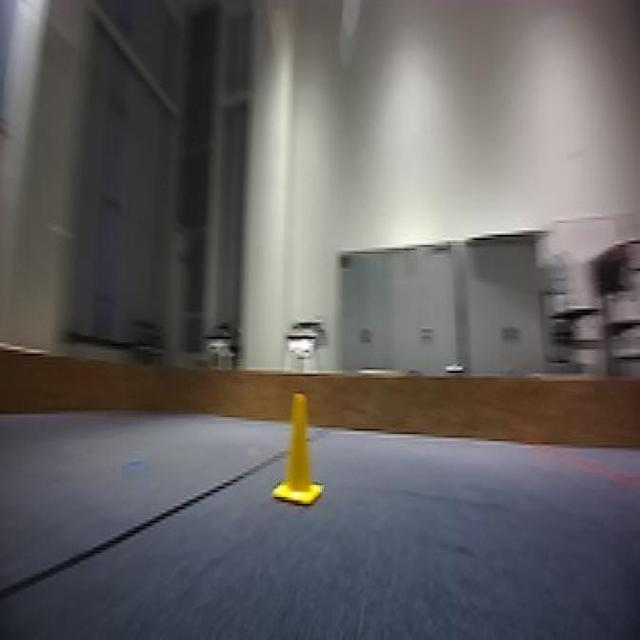frc_cone: (275, 398, 323, 514)
